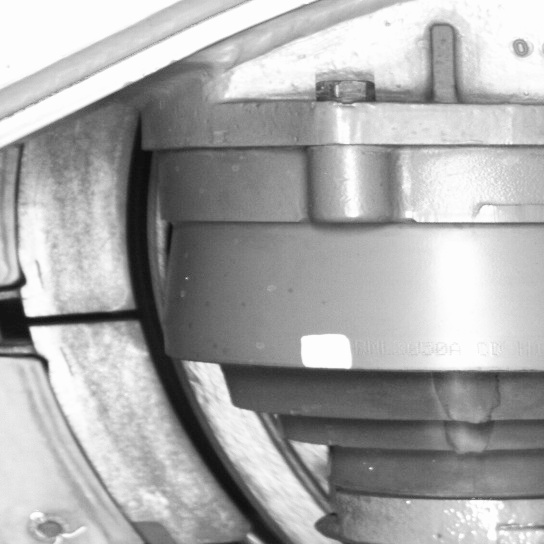KnifeSwitch: (31, 147, 300, 543)
